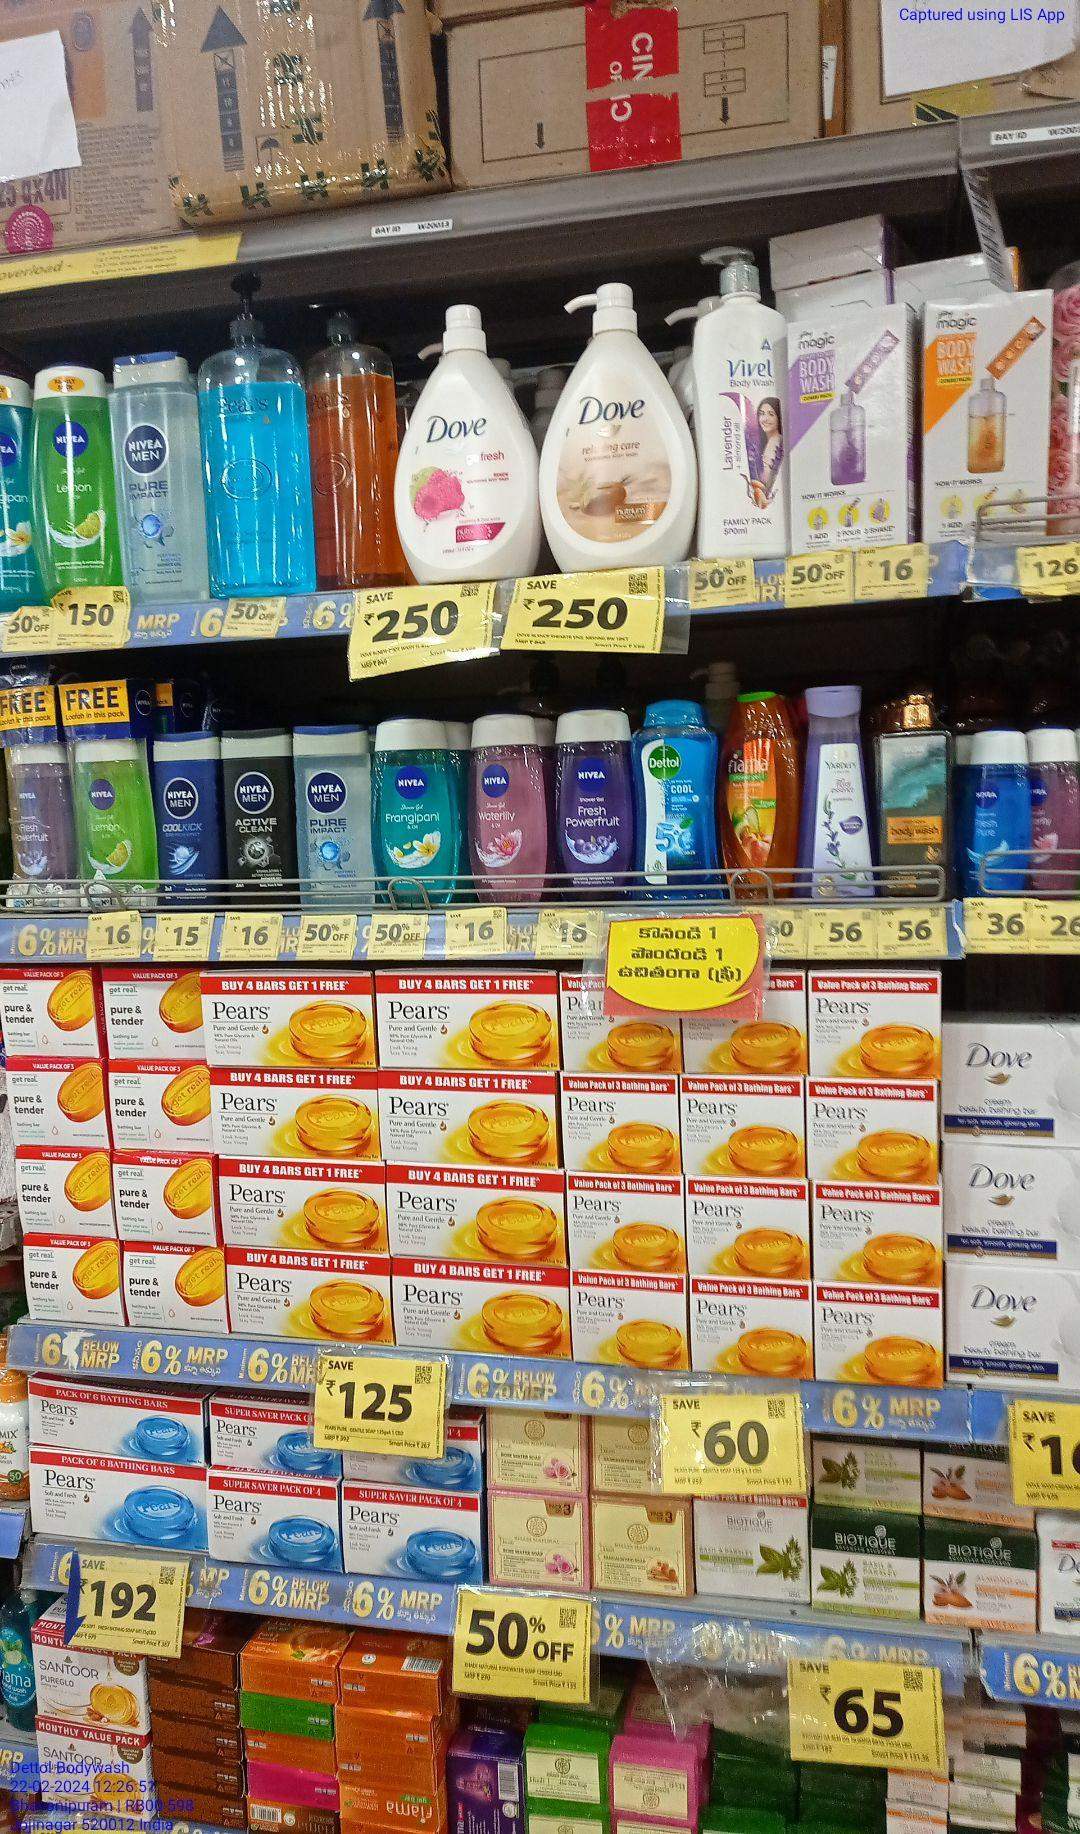Dettol_Bodywash_Cool: (627, 699, 717, 910)
Fiama_Shower_Gel_Peach_and_Avocado_250ML: (721, 685, 791, 907)
Nivea_Shower_Gel_Fresh_Powerfruit_250ML: (554, 704, 626, 893)
Nivea_Shower_Gel_Lemon_and_Oil_250ML: (31, 361, 113, 592), (370, 720, 456, 911), (76, 740, 149, 893)
Nivea_Shower_Gel_Waterlily_and_Oil_250ML: (464, 716, 535, 902)
